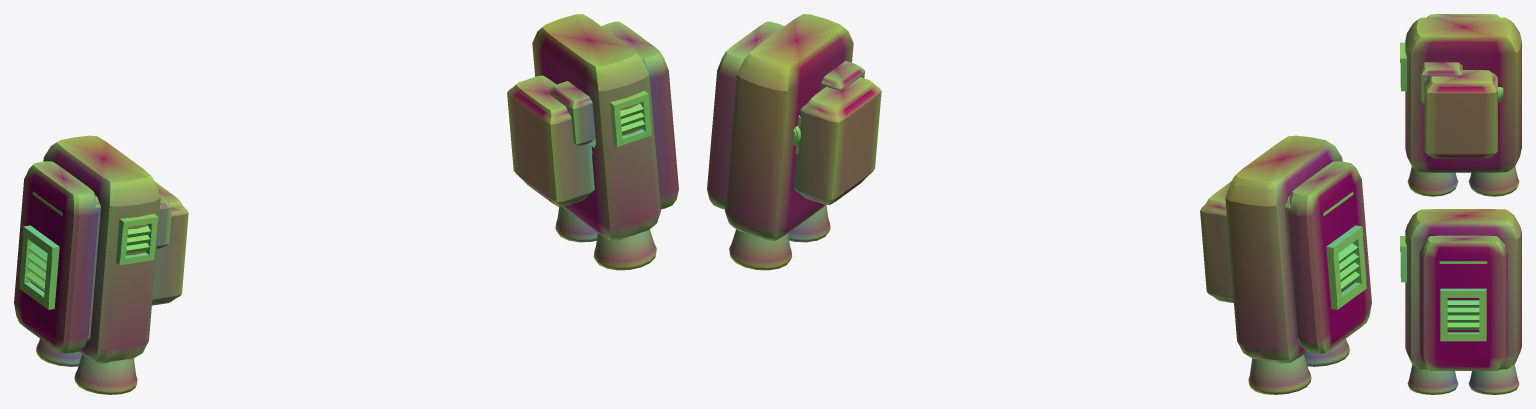
Rendered from llm_gen_leg_thrusters_098_ca3cf9.glb.
3 renders of one model, left to right at view 1: azimuth 30°, elevation 25°; view 2: azimuth 150°, elevation 25°; view 3: azimuth 270°, elevation 25°, orthographic. The views are drawn at different scales.
Parts seen in each view (by area): view 1: greave_pylon_0_cobalt_anodized_r, greave_pylon_0_cobalt_anodized_l, lateral_binder_shroud_2_wing_white_l, adapter_calf_clamp_r, lateral_binder_shroud_2_wing_white_r, adapter_calf_clamp_l, ankle_vector_bell_b_7_vernier_bell_vernier_l, ankle_vector_bell_b_7_vernier_bell_vernier_r, adapter_sub_binder_side_vent_3_dark_l, adapter_leg_knee_mount_dark_8_adapter_dark_r, adapter_sub_greave_intake_grille_5_dark_l, adapter_sub_greave_intake_grille_5_dark_r (+5 smaller); view 2: greave_pylon_0_cobalt_anodized_r, greave_pylon_0_cobalt_anodized_l, lateral_binder_shroud_2_wing_white_l, adapter_calf_clamp_r, lateral_binder_shroud_2_wing_white_r, adapter_calf_clamp_l, ankle_vector_bell_a_6_vernier_bell_vernier_l, ankle_vector_bell_a_6_vernier_bell_vernier_r, adapter_sub_binder_side_vent_3_dark_l, ankle_vector_bell_b_7_vernier_bell_vernier_r, adapter_leg_knee_mount_dark_8_adapter_dark_r, binder_side_vent_3_gold_l (+1 smaller); view 3: greave_pylon_0_cobalt_anodized_l, lateral_binder_shroud_2_wing_white_r, greave_pylon_0_cobalt_anodized_r, adapter_calf_clamp_l, adapter_sub_binder_side_vent_3_dark_r, ankle_vector_bell_a_6_vernier_bell_vernier_r, ankle_vector_bell_b_7_vernier_bell_vernier_r, ankle_vector_bell_a_6_vernier_bell_vernier_l, ankle_vector_bell_b_7_vernier_bell_vernier_l, binder_side_vent_3_gold_r, adapter_leg_knee_mount_dark_8_adapter_dark_l, adapter_sub_greave_intake_grille_5_dark_l (+3 smaller).
Part boxes in pixels (x1,y1,x2,y2): greave_pylon_0_cobalt_anodized_r: (532, 14, 660, 240); greave_pylon_0_cobalt_anodized_l: (43, 135, 160, 363); lateral_binder_shroud_2_wing_white_l: (14, 161, 98, 353); adapter_calf_clamp_r: (507, 75, 594, 206); lateral_binder_shroud_2_wing_white_r: (601, 21, 678, 209); adapter_calf_clamp_l: (152, 182, 188, 305); ankle_vector_bell_b_7_vernier_bell_vernier_l: (74, 354, 137, 394); ankle_vector_bell_b_7_vernier_bell_vernier_r: (593, 229, 656, 270); adapter_sub_binder_side_vent_3_dark_l: (19, 225, 59, 309); adapter_leg_knee_mount_dark_8_adapter_dark_r: (548, 81, 595, 145); adapter_sub_greave_intake_grille_5_dark_l: (116, 213, 158, 265); adapter_sub_greave_intake_grille_5_dark_r: (610, 91, 651, 146); greave_pylon_0_cobalt_anodized_r: (725, 14, 853, 240); greave_pylon_0_cobalt_anodized_l: (1225, 135, 1342, 363); lateral_binder_shroud_2_wing_white_l: (1287, 161, 1371, 353); adapter_calf_clamp_r: (794, 77, 881, 204); lateral_binder_shroud_2_wing_white_r: (707, 21, 784, 209); adapter_calf_clamp_l: (1200, 182, 1233, 302); ankle_vector_bell_a_6_vernier_bell_vernier_l: (1248, 354, 1311, 394); ankle_vector_bell_a_6_vernier_bell_vernier_r: (729, 229, 792, 270); adapter_sub_binder_side_vent_3_dark_l: (1326, 225, 1366, 309); ankle_vector_bell_b_7_vernier_bell_vernier_r: (788, 204, 830, 242); adapter_leg_knee_mount_dark_8_adapter_dark_r: (820, 61, 864, 90); binder_side_vent_3_gold_l: (1338, 243, 1360, 291); greave_pylon_0_cobalt_anodized_l: (1405, 17, 1521, 172); lateral_binder_shroud_2_wing_white_r: (1419, 235, 1507, 370); greave_pylon_0_cobalt_anodized_r: (1405, 209, 1521, 369); adapter_calf_clamp_l: (1424, 70, 1497, 158); adapter_sub_binder_side_vent_3_dark_r: (1440, 288, 1486, 341); ankle_vector_bell_a_6_vernier_bell_vernier_r: (1468, 364, 1519, 394); ankle_vector_bell_b_7_vernier_bell_vernier_r: (1407, 364, 1458, 394); ankle_vector_bell_a_6_vernier_bell_vernier_l: (1468, 166, 1519, 196); ankle_vector_bell_b_7_vernier_bell_vernier_l: (1407, 166, 1458, 196); binder_side_vent_3_gold_r: (1447, 300, 1479, 330); adapter_leg_knee_mount_dark_8_adapter_dark_l: (1420, 62, 1462, 103); adapter_sub_greave_intake_grille_5_dark_l: (1400, 42, 1406, 91).
Size of the model in its own units: 86.2 by 27.72 by 18.25.
